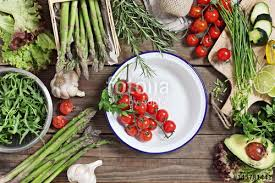Lettuce: (2, 6, 51, 58), (3, 84, 37, 134)
Tomato: (119, 85, 159, 132), (190, 1, 214, 54)
